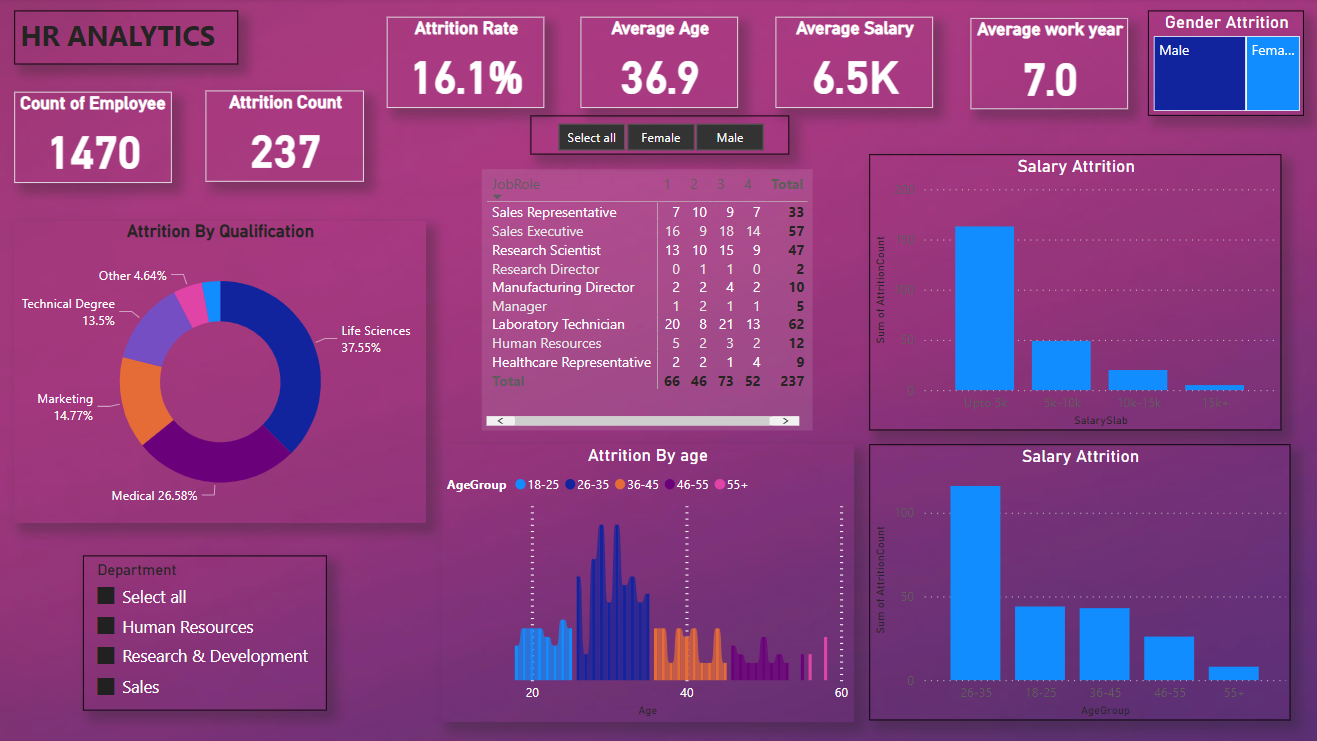

What the dashboard file says about the page in this screenshot:
{"tool":"powerbi","page":{"name":"Page 1","canvas":[1280,720],"ordinal":0},"visuals":[{"type":"card","title":"Count of Employee","fields":{"Values":["CountNonNull(HR_Analytics.EmpID)"]},"box":[15.7,90.5,152,88],"z":0},{"type":"card","title":"Attrition Count","fields":{"Values":["Sum(HR_Analytics.AttritionCount)"]},"box":[200.2,89.2,153.2,88],"z":1000},{"type":"card","title":"Attrition Rate","fields":{"Values":["HR_Analytics.Attritionrate"]},"box":[374.6,17.8,152.3,87.8],"z":1001},{"type":"card","title":"Average Age","fields":{"Values":["Avg(HR_Analytics.Age)"]},"box":[562.6,17.8,152.3,87.8],"z":1002},{"type":"card","title":"Average Salary","fields":{"Values":["Avg(HR_Analytics.MonthlyIncome)"]},"box":[750.2,18.1,152,88],"z":1003},{"type":"card","title":"Average work year","fields":{"Values":["Avg(HR_Analytics.YearsAtCompany)"]},"box":[938.3,19.3,152,88],"z":1004},{"type":"donutChart","title":"Attrition By Qualification","fields":{"Category":["HR_Analytics.EducationField"],"Y":["Sum(HR_Analytics.AttritionCount)"]},"box":[15.7,214.7,398,291.9],"z":1005},{"type":"pivotTable","fields":{"Rows":["HR_Analytics.JobRole"],"Columns":["HR_Analytics.JobSatisfaction"],"Values":["Sum(HR_Analytics.AttritionCount)"]},"box":[466.7,165.2,319.6,252.1],"z":1006},{"type":"clusteredColumnChart","title":"Salary Attrition","fields":{"Category":["HR_Analytics.SalarySlab"],"Y":["Sum(HR_Analytics.AttritionCount)"]},"box":[840.6,150.8,398,266.5],"z":1007},{"type":"clusteredColumnChart","title":"Salary Attrition","fields":{"Category":["HR_Analytics.AgeGroup"],"Y":["Sum(HR_Analytics.AttritionCount)"]},"box":[840.6,430.6,406.4,266.5],"z":1008},{"type":"ribbonChart","title":"Attrition By age","fields":{"Category":["HR_Analytics.Age"],"Y":["Sum(HR_Analytics.AttritionCount)"],"Series":["HR_Analytics.AgeGroup"]},"box":[428.1,430.6,398,267.7],"z":1009},{"type":"treemap","title":"Gender Attrition","fields":{"Values":["Sum(HR_Analytics.AttritionCount)"],"Group":["HR_Analytics.Gender"]},"box":[1109.5,12.1,150.8,101.3],"z":1010},{"type":"slicer","fields":{"Values":["HR_Analytics.Department"]},"box":[82,537.9,235.2,149.5],"z":1011},{"type":"slicer","fields":{"Values":["HR_Analytics.Gender"]},"box":[513.8,113.4,249.6,37.4],"z":1012},{"type":"textbox","box":[15.7,12.1,215.9,51.9],"z":1013}]}

Visuals, with their boxes in screenshot pixels (x1, y1, x2, y2), scaled from the page's 1280x720 canvas onto the 1317x741 screenshot:
"Count of Employee" card: <box>16,93,173,184</box>
"Attrition Count" card: <box>206,92,364,182</box>
"Attrition Rate" card: <box>385,18,542,109</box>
"Average Age" card: <box>579,18,736,109</box>
"Average Salary" card: <box>772,19,928,109</box>
"Average work year" card: <box>965,20,1122,110</box>
"Attrition By Qualification" donutChart: <box>16,221,426,521</box>
pivotTable - HR_Analytics.JobRole x HR_Analytics.JobSatisfaction: <box>480,170,809,429</box>
"Salary Attrition" clusteredColumnChart: <box>865,155,1274,429</box>
"Salary Attrition" clusteredColumnChart: <box>865,443,1283,717</box>
"Attrition By age" ribbonChart: <box>440,443,850,719</box>
"Gender Attrition" treemap: <box>1142,12,1297,117</box>
slicer - HR_Analytics.Department: <box>84,554,326,707</box>
slicer - HR_Analytics.Gender: <box>529,117,785,155</box>
textbox: <box>16,12,238,66</box>
